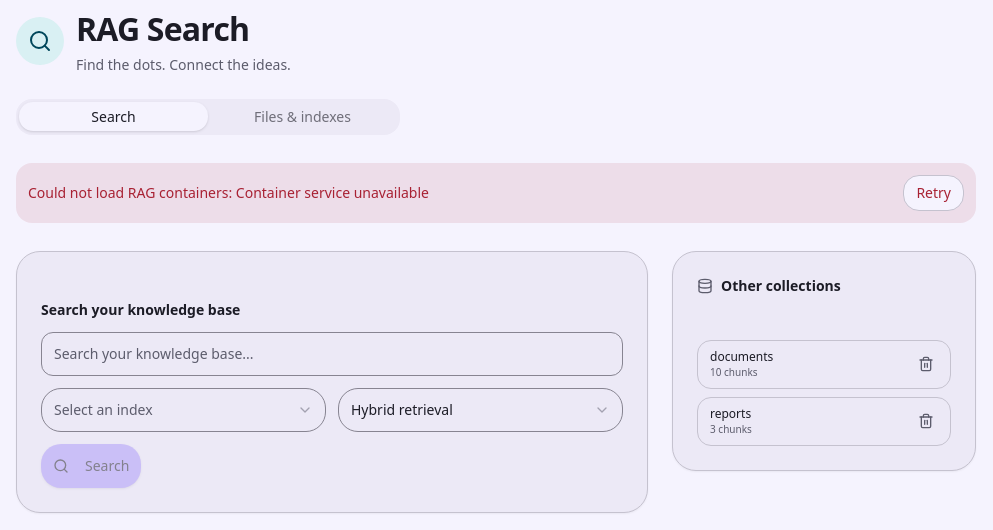
Scenario: RAG Page › shows a retryable container loading error
Expected: the message shows "Could not load RAG containers: Container service unavailable", [16,163,976,223]
What coordinates should you click on to do the following:
click the button "Retry"
I would click on:
 (934, 193)
Its box is [903,175,964,211].
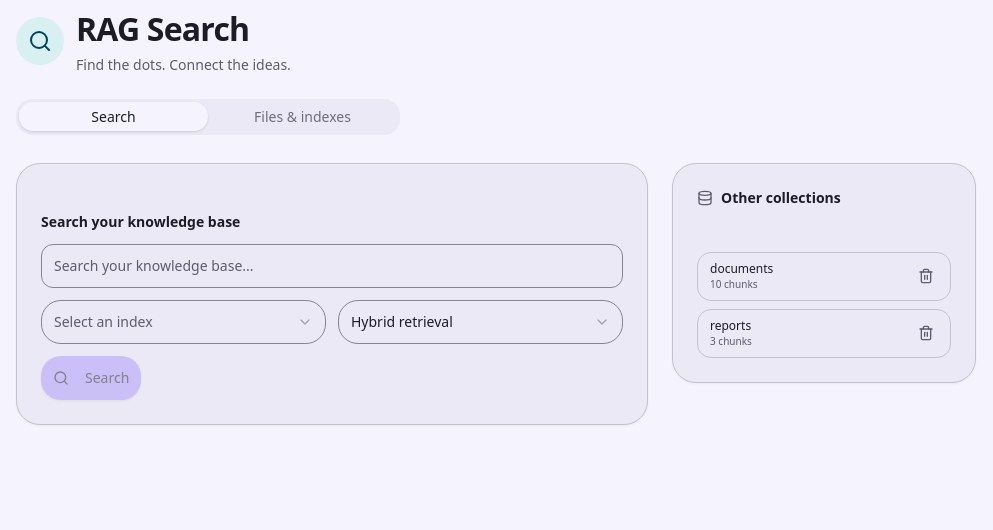
Result: the message "Could not load RAG containers: Container service unavailable Retry" is gone
